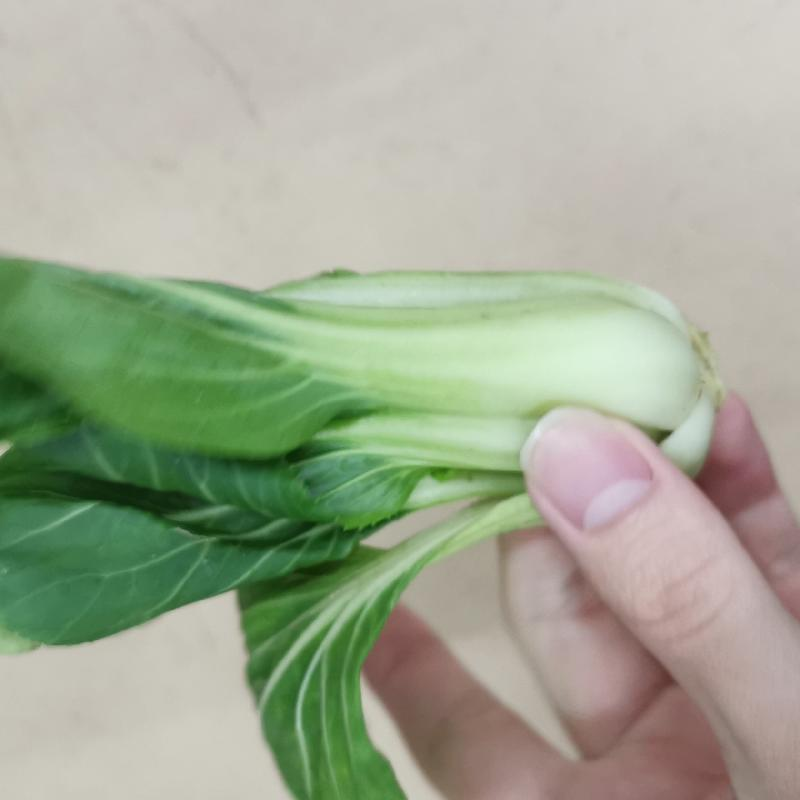green vegatable: (5, 242, 709, 539)
